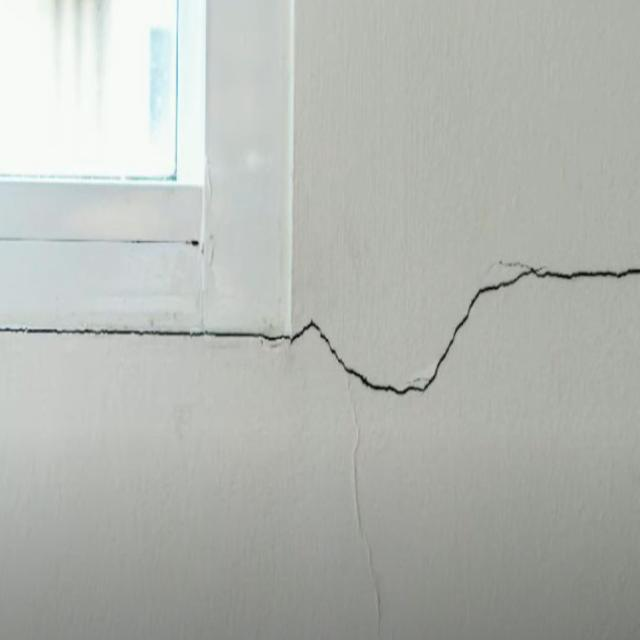Wall_Cracks: (2, 206, 640, 441)
